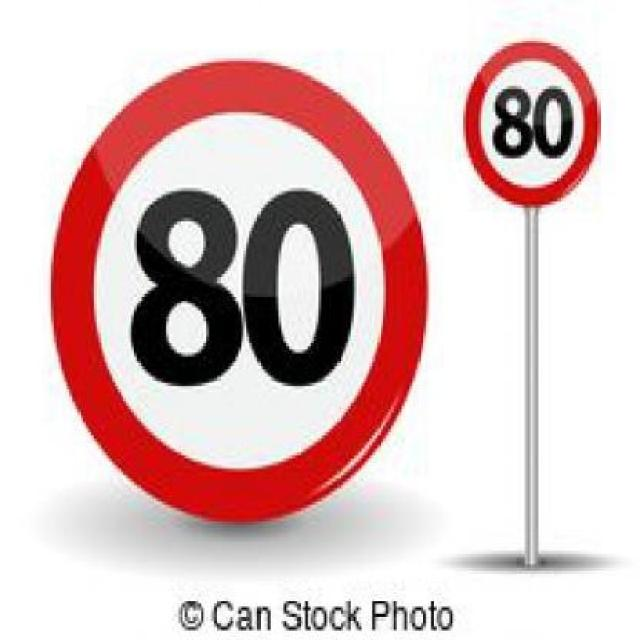forb_speed_over_80: (61, 63, 417, 520), (471, 44, 598, 204)
